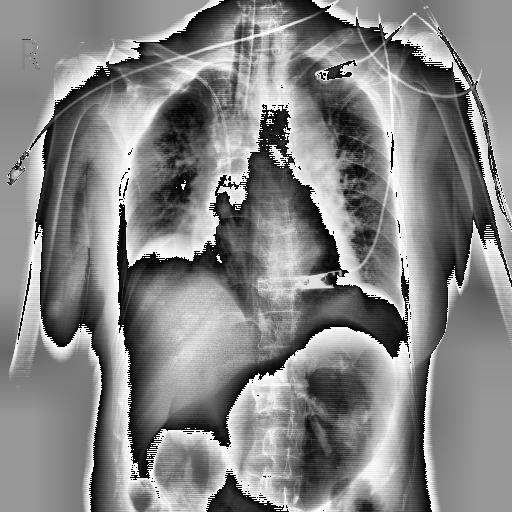0- Aortic enlargement: (251, 84, 332, 174), (252, 84, 335, 171), (262, 86, 336, 170)
3- Cardiomegaly: (192, 214, 360, 305), (190, 206, 359, 290)
